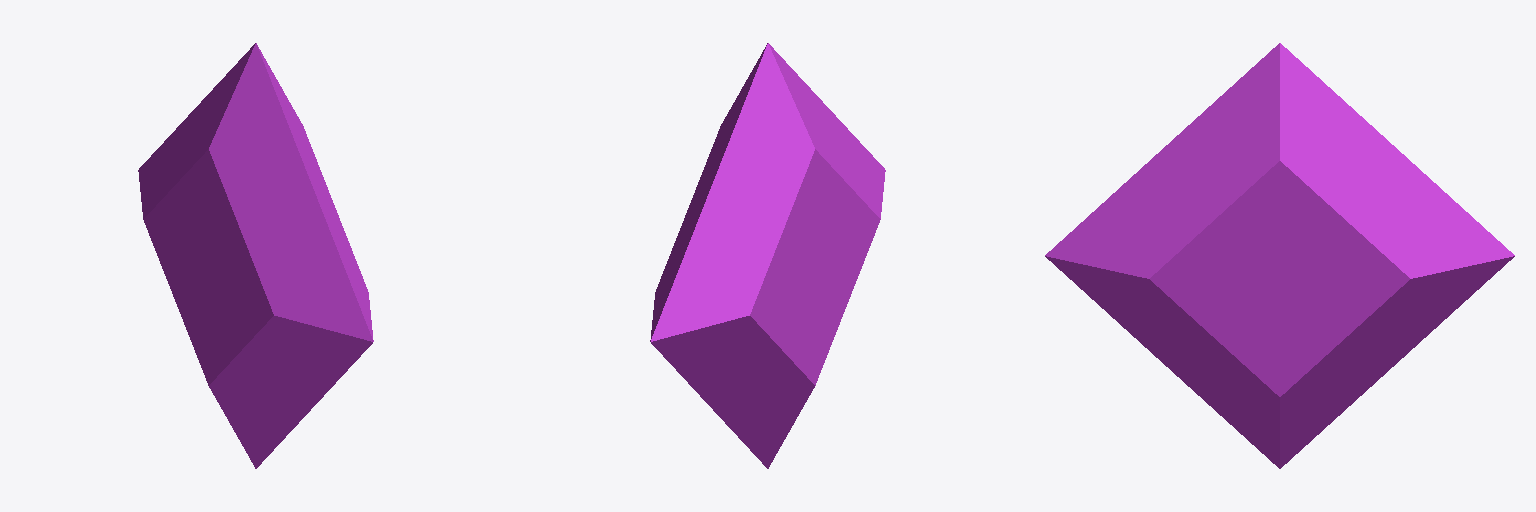
File: Opal.obj
The picture shows the model from 3 angles: view 1: azimuth 30°, elevation 25°; view 2: azimuth 150°, elevation 25°; view 3: azimuth 270°, elevation 25°; orthographic projection.
Visible parts, largest first — view 1: Opal_Plane.004; view 2: Opal_Plane.004; view 3: Opal_Plane.004.
Boxes of the visible parts, box(x1,y1,x2,y2) form: Opal_Plane.004: box(138, 43, 373, 468); Opal_Plane.004: box(650, 43, 885, 468); Opal_Plane.004: box(1045, 43, 1514, 468).
Bounding box in the file's own units: 0.273 × 1.18 × 1.18.